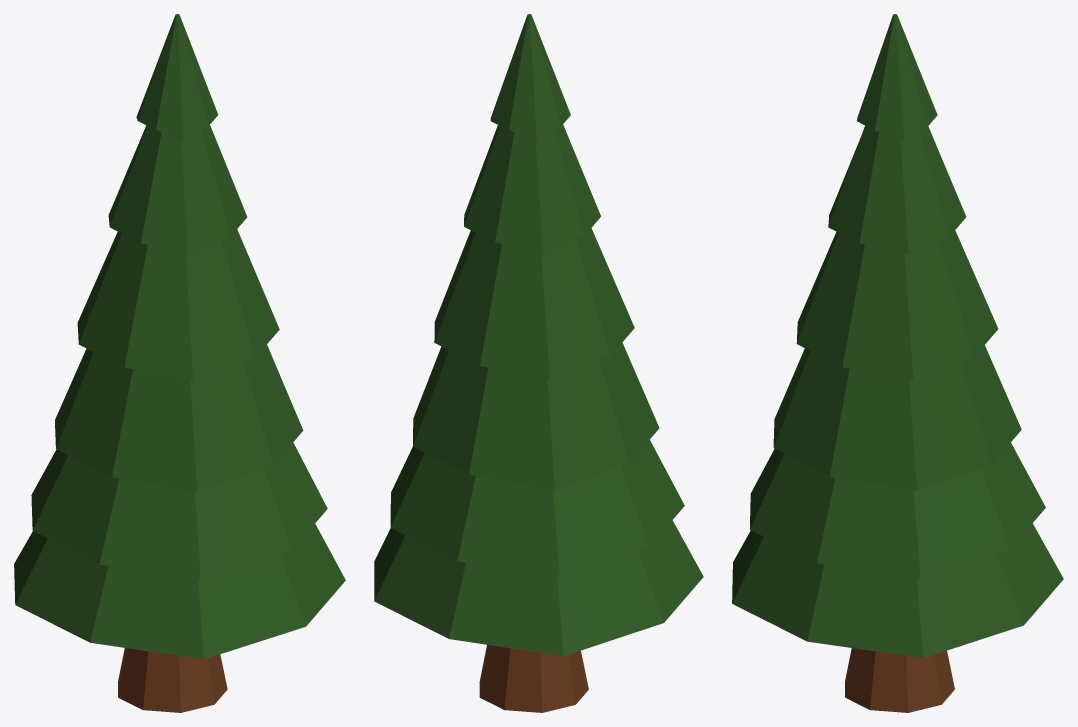
File: tree.glb
3 views of the same model, side by side, from view 1: azimuth 30°, elevation 25°; view 2: azimuth 150°, elevation 25°; view 3: azimuth 270°, elevation 25° (orthographic).
Parts seen in each view (by area): view 1: Cylinder; view 2: Cylinder; view 3: Cylinder.
Part boxes in pixels (x1,y1,x2,y2): Cylinder: (14, 14, 345, 712); Cylinder: (374, 14, 703, 712); Cylinder: (732, 14, 1063, 712).
Bounding box in the file's own units: 2.31 × 5.12 × 2.28.
